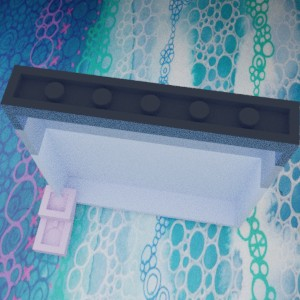lego: (0, 64, 300, 228), (32, 184, 77, 256)
